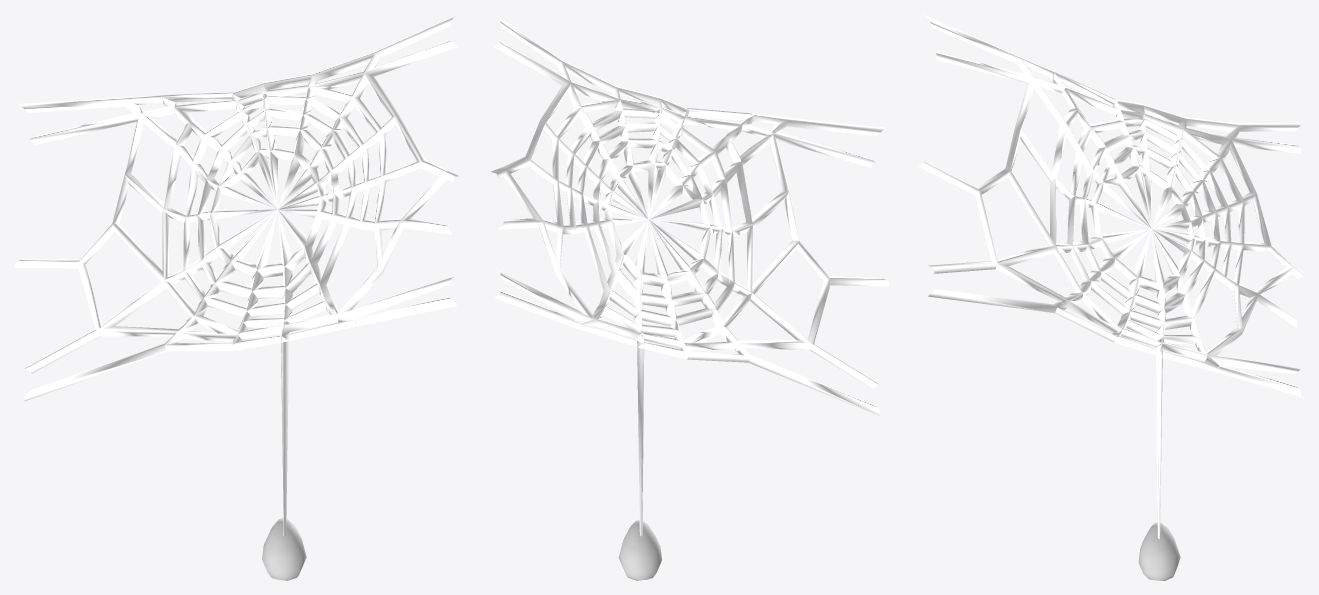
The model's file is SpiderWebWithEggs.glb.
3 renders of one model, left to right at view 1: azimuth 30°, elevation 25°; view 2: azimuth 150°, elevation 25°; view 3: azimuth 330°, elevation 25°, orthographic. The views are drawn at different scales.
Visible parts, largest first — view 1: SpiderWebWithEggs; view 2: SpiderWebWithEggs; view 3: SpiderWebWithEggs.
Part boxes in pixels (box(x1,y1,x2,y2)): SpiderWebWithEggs: box(14, 15, 460, 580); SpiderWebWithEggs: box(491, 15, 889, 580); SpiderWebWithEggs: box(918, 14, 1304, 580).
Size of what is drawn, in the model's own units: 3.1 by 3.7 by 0.3118.
1 material, 1 textured.
